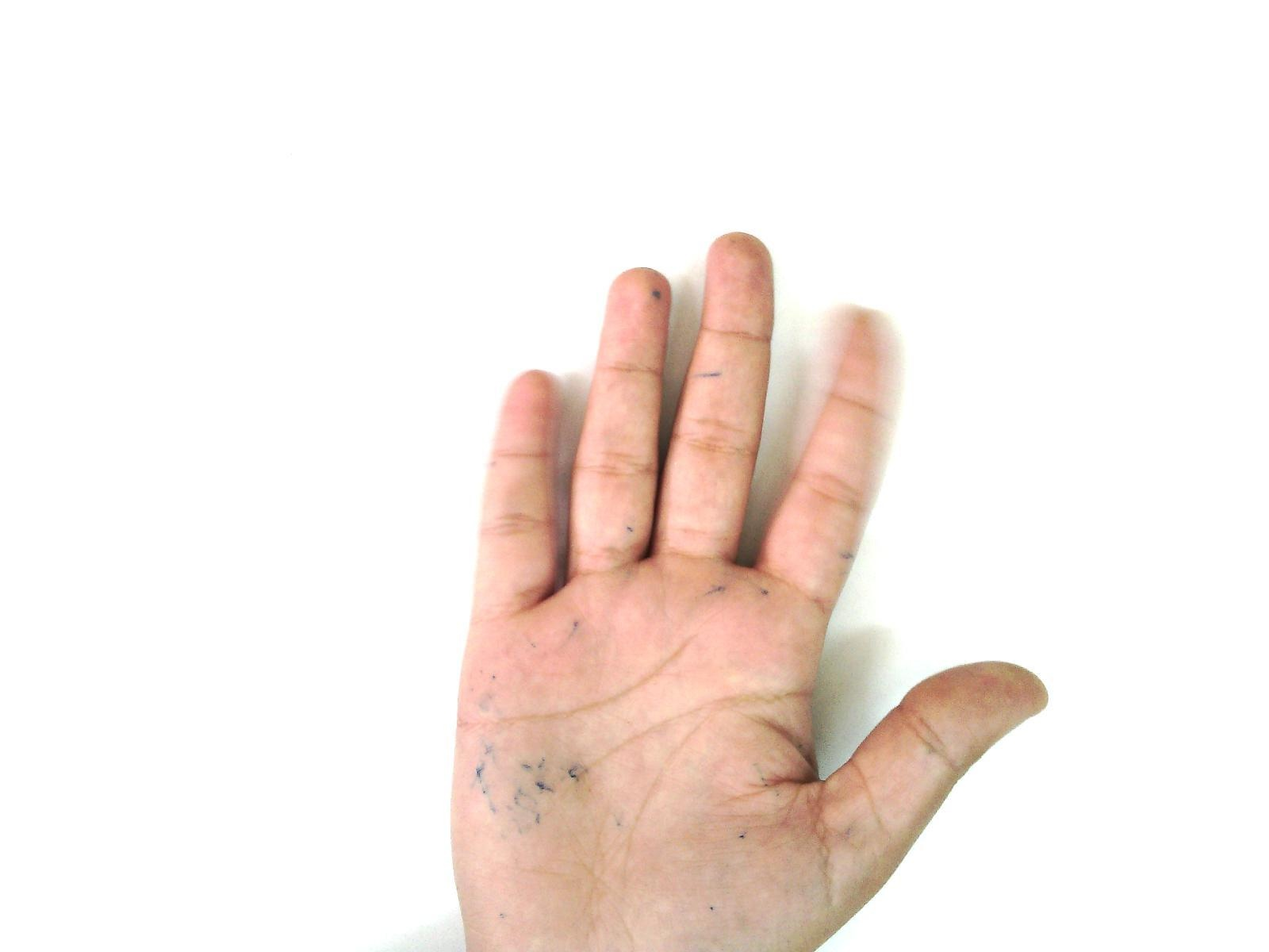open_palm: (446, 231, 1051, 951)
